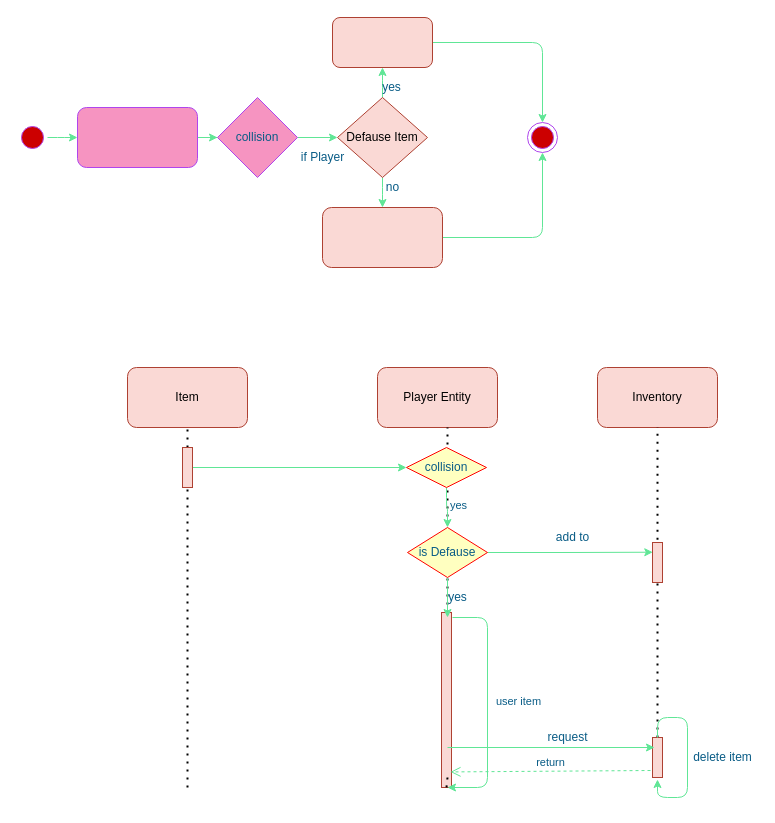
This 775x823 diagram has some shape labels left out. The centre of each missing label's shape, as x and y in pixels:
"Add to Inventory" goes at (x=382, y=237).
"Init Item" goes at (x=137, y=137).
"Use Item" goes at (x=382, y=42).
